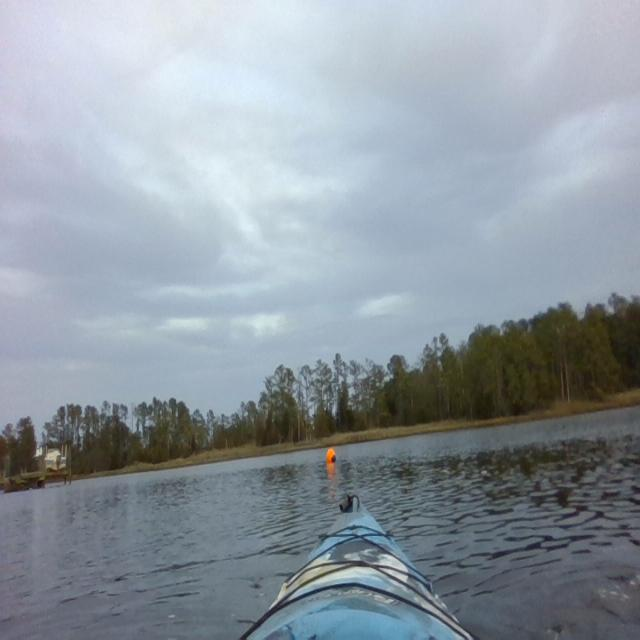Buoy: (326, 446, 337, 466)
